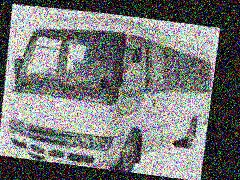bus: (0, 4, 220, 180)
